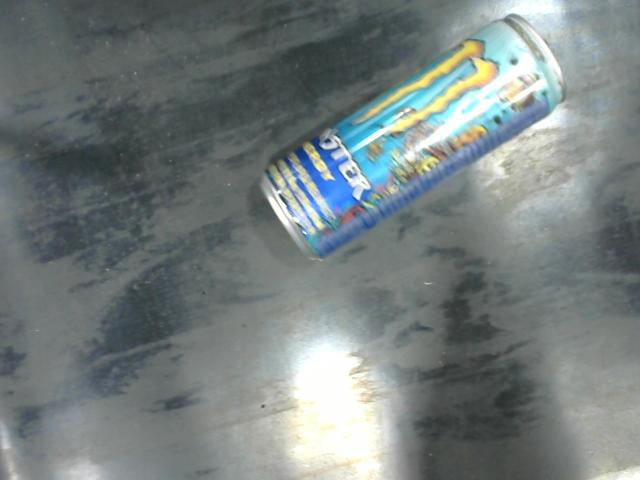can: (255, 12, 570, 264)
